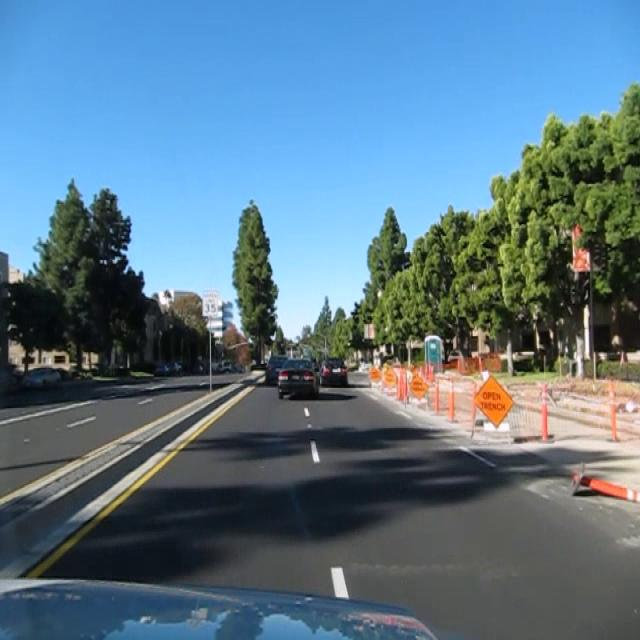speedLimit35: (202, 289, 217, 315)
